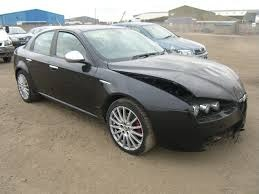Dent: (113, 61, 248, 150)
